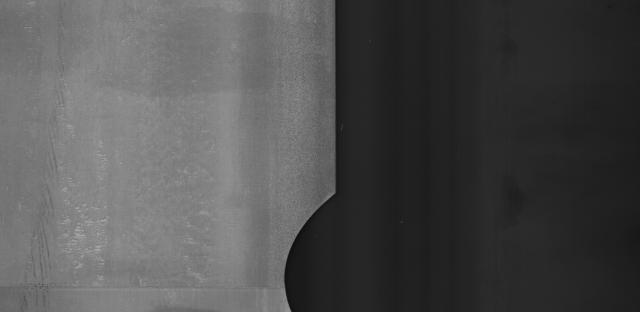crescent_gap: (268, 180, 356, 312)
welding_line: (3, 276, 301, 299)
